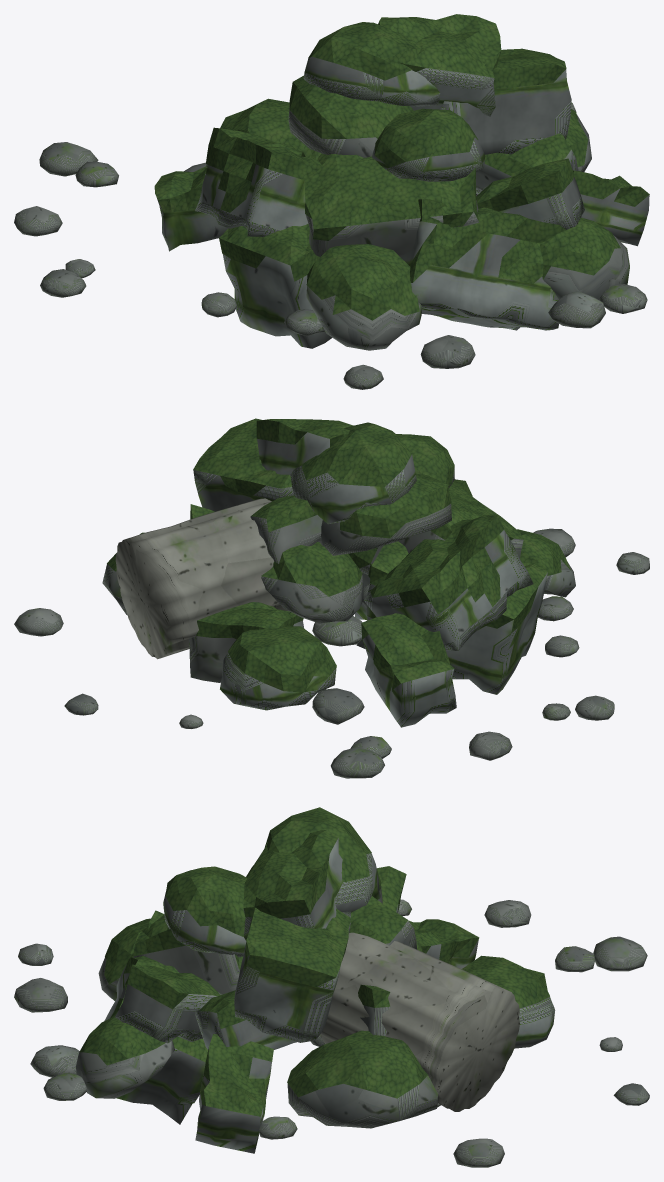
File: ruin_rubble_pile.glb
The picture shows the model from 3 angles, top to bottom: view 1: azimuth 30°, elevation 25°; view 2: azimuth 150°, elevation 25°; view 3: azimuth 270°, elevation 25°; orthographic projection. The views are drawn at different scales.
Visible parts, largest first — view 1: ruin_rubble_pile__moss, ruin_rubble_pile__stone_wall, ruin_rubble_pile__stone_block; view 2: ruin_rubble_pile__moss, ruin_rubble_pile__stone_wall, ruin_rubble_pile__stone_block, ruin_rubble_pile__stone_pale; view 3: ruin_rubble_pile__moss, ruin_rubble_pile__stone_wall, ruin_rubble_pile__stone_block, ruin_rubble_pile__stone_pale.
Boxes of the visible parts, x1,y1,x2,y2 form: ruin_rubble_pile__moss: (154, 14, 649, 320); ruin_rubble_pile__stone_wall: (156, 56, 649, 348); ruin_rubble_pile__stone_block: (14, 102, 647, 389); ruin_rubble_pile__moss: (107, 418, 570, 692); ruin_rubble_pile__stone_wall: (193, 432, 547, 727); ruin_rubble_pile__stone_block: (14, 504, 649, 778); ruin_rubble_pile__stone_pale: (115, 498, 288, 659); ruin_rubble_pile__moss: (79, 807, 549, 1116); ruin_rubble_pile__stone_wall: (104, 838, 555, 1153); ruin_rubble_pile__stone_block: (14, 886, 649, 1167); ruin_rubble_pile__stone_pale: (319, 932, 519, 1111).
Bounding box in the file's own units: 4.17 × 1.86 × 4.
Materials: 4 (4 with a texture image).
